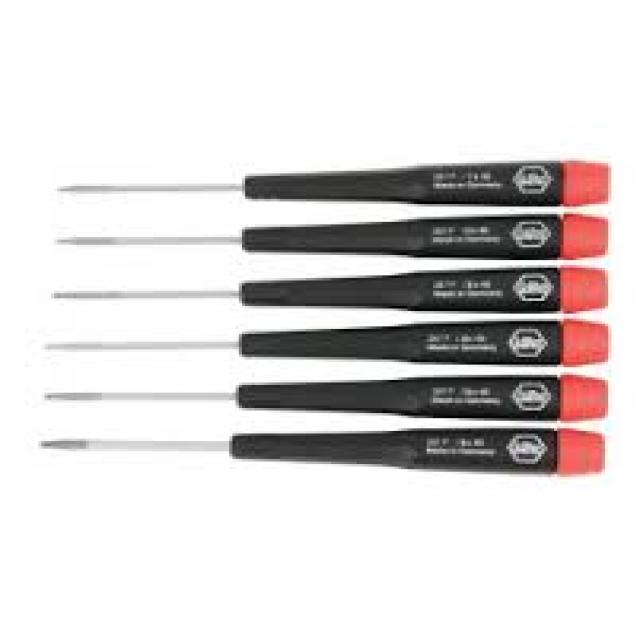screw driver: (29, 316, 628, 377), (21, 422, 640, 481), (35, 210, 615, 266)
